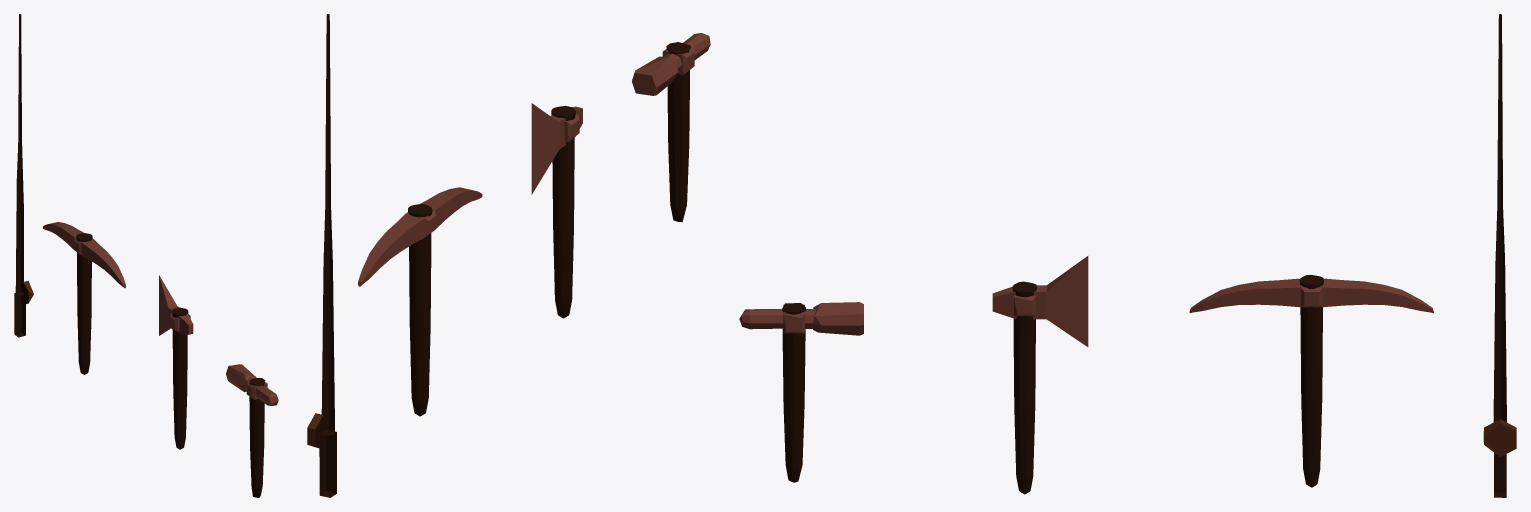
Rendered from Tools.glb.
The picture shows the model from 3 angles, left to right: view 1: azimuth 30°, elevation 25°; view 2: azimuth 150°, elevation 25°; view 3: azimuth 270°, elevation 25°; orthographic projection. The views are drawn at different scales.
Visible parts, largest first — view 1: CopperPickaxe, CopperAxe, Hammer, FishingRod; view 2: CopperPickaxe, CopperAxe, Hammer, FishingRod; view 3: CopperPickaxe, CopperAxe, Hammer, FishingRod.
Boxes of the visible parts, bbox=[...] form: CopperPickaxe: bbox=[43, 222, 125, 374]; CopperAxe: bbox=[159, 275, 193, 449]; Hammer: bbox=[226, 364, 278, 497]; FishingRod: bbox=[14, 14, 33, 337]; CopperPickaxe: bbox=[358, 187, 482, 416]; CopperAxe: bbox=[531, 103, 582, 318]; Hammer: bbox=[632, 33, 710, 222]; FishingRod: bbox=[307, 14, 336, 497]; CopperPickaxe: bbox=[1189, 275, 1433, 487]; CopperAxe: bbox=[992, 256, 1088, 494]; Hammer: bbox=[739, 302, 863, 482]; FishingRod: bbox=[1483, 14, 1516, 497].
Bounding box in the file's own units: 0.0446 × 0.7688 × 1.13.
